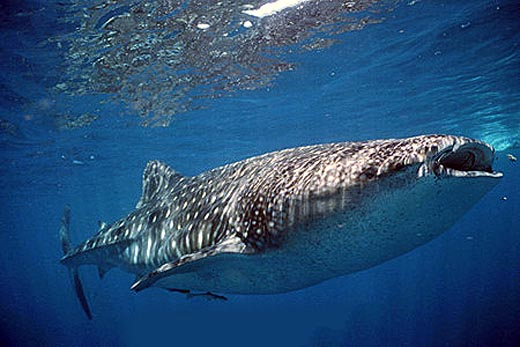Rhincodon_typusw: (39, 126, 501, 336)
